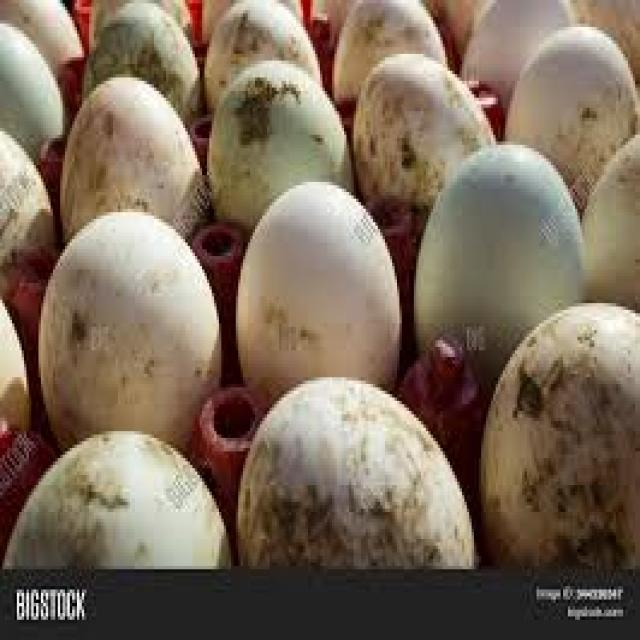Dirt Stained Egg: (230, 381, 478, 577), (473, 299, 640, 574), (43, 216, 214, 451), (16, 420, 232, 570)
